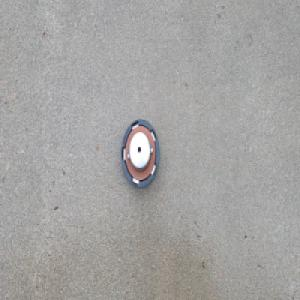FuelCap: (118, 118, 159, 193)
